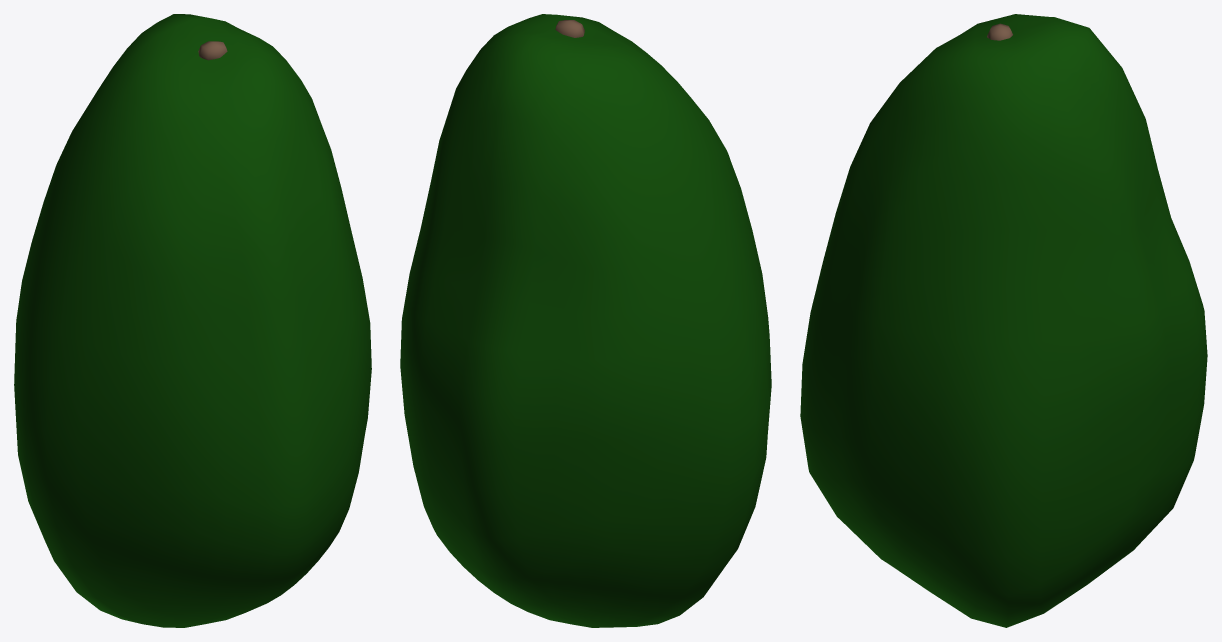
Rendered from Avocado.fbx.
3 views of the same model, side by side, from view 1: azimuth 30°, elevation 25°; view 2: azimuth 150°, elevation 25°; view 3: azimuth 270°, elevation 25° (orthographic). The views are drawn at different scales.
Parts seen in each view (by area): view 1: Cube; view 2: Cube; view 3: Cube.
Boxes of the visible parts, x1,y1,x2,y2 form: Cube: [14, 14, 371, 627]; Cube: [400, 14, 771, 627]; Cube: [800, 14, 1207, 627].
Size of the model in its own units: 12.54 by 20.82 by 12.97.
